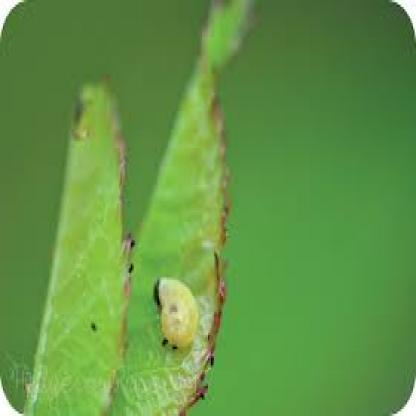sawfly: (149, 272, 199, 358)
